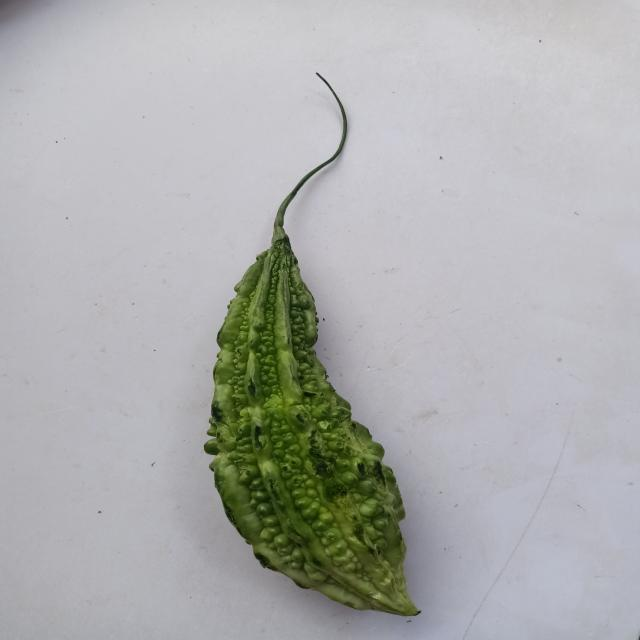Bitter Gourd: (197, 51, 468, 628)
